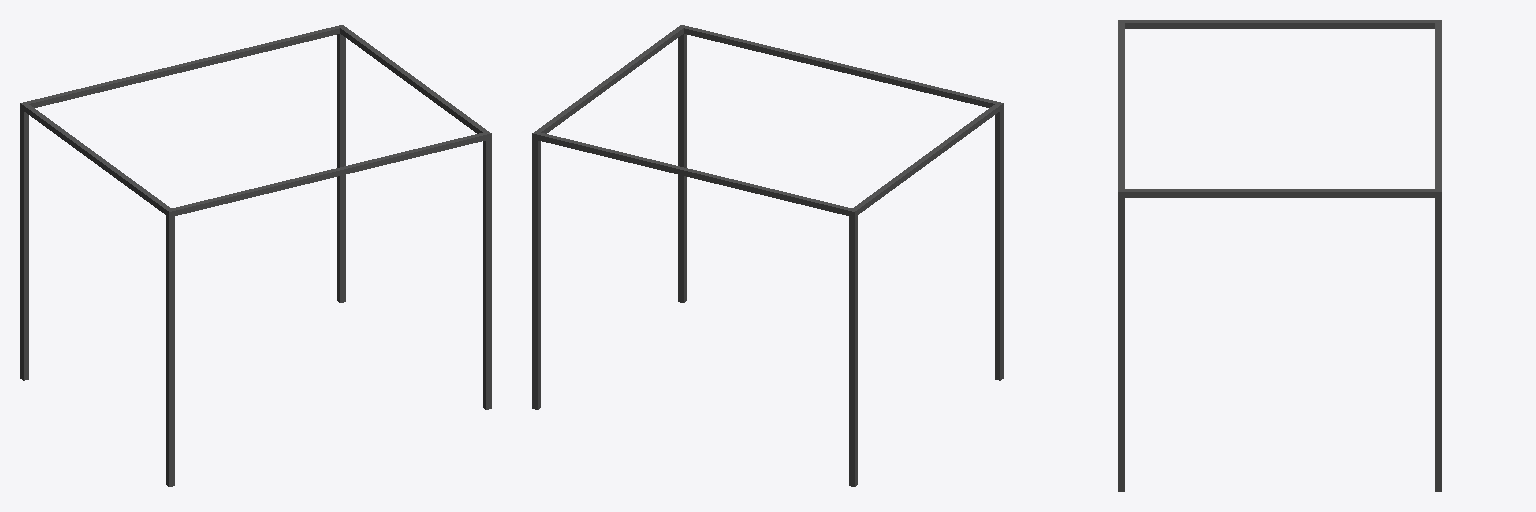
The robot description file, URDF, robot "camera_frame":
<?xml version="1.0"?>
<robot name="camera_frame">
  <link name="vertical_support_1">
  <contact>
      <lateral_friction value="1"/>
  </contact>
    <inertial>
      <origin rpy="0 0 0" xyz="0 0 0"/>
       <mass value=".0"/>
       <inertia ixx="0" ixy="0" ixz="0" iyy="0" iyz="0" izz="0"/>
    </inertial>
    <visual>
      <origin xyz="0 0 0.6096" rpy="0 0 0" />
      <geometry>
        <box size="0.0254 0.0254 1.2192" />
      </geometry>
      <material name="desert sand">
        <color rgba="0.375 0.375 0.375 1" />
      </material>
    </visual>
    <collision>
      <origin xyz="0 0 0.6096" rpy="0 0 0" />
      <geometry>
        <box size="0.0254 0.0254 1.2192" />
      </geometry>
    </collision>
  </link>
  <link name="vertical_support_2">
  <contact>
      <lateral_friction value="1"/>
  </contact>
    <inertial>
      <origin rpy="0 0 0" xyz="0 0 0"/>
       <mass value=".0"/>
       <inertia ixx="0" ixy="0" ixz="0" iyy="0" iyz="0" izz="0"/>
    </inertial>
    <visual>
      <origin xyz="0 0 0.6096" rpy="0 0 0" />
      <geometry>
        <box size="0.0254 0.0254 1.2192" />
      </geometry>
      <material name="desert sand" />
    </visual>
    <collision>
      <origin xyz="0 0 0.6096" rpy="0 0 0" />
      <geometry>
        <box size="0.0254 0.0254 1.2192" />
      </geometry>
    </collision>
  </link>
  <link name="vertical_support_3">
  <contact>
      <lateral_friction value="1"/>
  </contact>
    <inertial>
      <origin rpy="0 0 0" xyz="0 0 0"/>
       <mass value=".0"/>
       <inertia ixx="0" ixy="0" ixz="0" iyy="0" iyz="0" izz="0"/>
    </inertial>
    <visual>
      <origin xyz="0 0 0.6096" rpy="0 0 0" />
      <geometry>
        <box size="0.0254 0.0254 1.2192" />
      </geometry>
      <material name="desert sand"/>
    </visual>
    <collision>
      <origin xyz="0 0 0.6096" rpy="0 0 0" />
      <geometry>
        <box size="0.0254 0.0254 1.2192" />
      </geometry>
    </collision>
  </link>
  <link name="vertical_support_4">
  <contact>
      <lateral_friction value="1"/>
  </contact>
    <inertial>
      <origin rpy="0 0 0" xyz="0 0 0"/>
       <mass value=".0"/>
       <inertia ixx="0" ixy="0" ixz="0" iyy="0" iyz="0" izz="0"/>
    </inertial>
    <visual>
      <origin xyz="0 0 0.6096" rpy="0 0 0" />
      <geometry>
        <box size="0.0254 0.0254 1.2192" />
      </geometry>
      <material name="desert sand"/>
    </visual>
    <collision>
      <origin xyz="0 0 0.6096" rpy="0 0 0" />
      <geometry>
        <box size="0.0254 0.0254 1.2192" />
      </geometry>
    </collision>
  </link>

  <link name="horizontal_support_1_short">
  <contact>
      <lateral_friction value="1"/>
  </contact>
    <inertial>
      <origin rpy="0 0 0" xyz="0 0 0"/>
       <mass value=".0"/>
       <inertia ixx="0" ixy="0" ixz="0" iyy="0" iyz="0" izz="0"/>
    </inertial>
    <visual>
      <origin xyz="0 0 0.0127" rpy="0 0 0" />
      <geometry>
        <box size= "0.0254 1.2192 0.0254" />
      </geometry>
      <material name="desert sand"/>
    </visual>
    <collision>
      <origin xyz="0 0 0.0127" rpy="0 0 0" />
      <geometry>
        <box size="0.0254 1.2192 0.0254" />
      </geometry>
    </collision>
  </link>

  <link name="horizontal_support_2_short">
  <contact>
      <lateral_friction value="1"/>
  </contact>
    <inertial>
      <origin rpy="0 0 0" xyz="0 0 0"/>
       <mass value=".0"/>
       <inertia ixx="0" ixy="0" ixz="0" iyy="0" iyz="0" izz="0"/>
    </inertial>
    <visual>
      <origin xyz="0 0 0.0127" rpy="0 0 0" />
      <geometry>
        <box size= "0.0254 1.2192 0.0254" />
      </geometry>
      <material name="desert sand"/>
    </visual>
    <collision>
      <origin xyz="0 0 0.0127" rpy="0 0 0" />
      <geometry>
        <box size="0.0254 1.2192 0.0254" />
      </geometry>
    </collision>
  </link>

  <link name="horizontal_support_3_long">
  <contact>
      <lateral_friction value="1"/>
  </contact>
    <inertial>
      <origin rpy="0 0 0" xyz="0 0 0"/>
       <mass value=".0"/>
       <inertia ixx="0" ixy="0" ixz="0" iyy="0" iyz="0" izz="0"/>
    </inertial>
    <visual>
      <origin xyz="0 0 0.0127" rpy="0 0 0" />
      <geometry>
        <box size= "1.4732 0.0254 0.0254" />
      </geometry>
      <material name="desert sand" />
    </visual>
    <collision>
      <origin xyz="0 0 0.0127" rpy="0 0 0" />
      <geometry>
        <box size="1.4732 0.0254 0.0254" />
      </geometry>
    </collision>
  </link>

  <link name="horizontal_support_4_long">
  <contact>
      <lateral_friction value="1"/>
  </contact>
    <inertial>
      <origin rpy="0 0 0" xyz="0 0 0"/>
       <mass value=".0"/>
       <inertia ixx="0" ixy="0" ixz="0" iyy="0" iyz="0" izz="0"/>
    </inertial>
    <visual>
      <origin xyz="0 0 0.0127" rpy="0 0 0" />
      <geometry>
        <box size= "1.4732 0.0254 0.0254" />
      </geometry>
      <material name="desert sand" />
    </visual>
    <collision>
      <origin xyz="0 0 0.0127" rpy="0 0 0" />
      <geometry>
        <box size="1.4732 0.0254 0.0254" />
      </geometry>
    </collision>
  </link>
  <!-- Everything is in reference to the first vertical support. It is infront and left of the robot (from the robot perspective). -->
  <joint name="vertical_2_vertical_1" type="fixed">
    <origin xyz="-1.4986 0.0 0.0" rpy="0 0 0" /> <!-- Length of base - length of support = 1.524/2 - 0.0254/2  -->
    <parent link="vertical_support_1" />
    <child link="vertical_support_2" />
  </joint>

  <joint name="vertical_3_vertical_1" type="fixed">
    <origin xyz="0.0 -1.1938 0.0" rpy="0 0 0" /> <!-- Length of base/2 - length of support/2 = 1.524/2 - 0.0254/2  -->
    <parent link="vertical_support_1" />
    <child link="vertical_support_3" />
  </joint>

  <joint name="vertical_4_vertical_1" type="fixed">
    <origin xyz="-1.4986 -1.1938 0.0" rpy="0 0 0" /> <!-- Length of base/2 - length of support/2 = 1.524/2 - 0.0254/2  -->
    <parent link="vertical_support_1" />
    <child link="vertical_support_4" />
  </joint>

  <joint name="horizontal_1_vertical_1" type="fixed">
    <origin xyz="0.0 -0.5969 1.2192" rpy="0 0 0" /> <!-- Length of base/2 - length of support/2 = 1.524/2 - 0.0254/2  -->
    <parent link="vertical_support_1" />
    <child link="horizontal_support_1_short" />
  </joint>

  <joint name="horizontal_2_vertical_1" type="fixed">
    <origin xyz="-1.4986 -0.5969 1.2192" rpy="0 0 0" /> <!-- Length of base/2 - length of support/2 = 1.524/2 - 0.0254/2  -->
    <parent link="vertical_support_1" />
    <child link="horizontal_support_2_short" />
  </joint>

  <joint name="horizontal_3_vertical_1" type="fixed">
    <origin xyz="-0.7493 0.0 1.2192" rpy="0 0 0" /> <!-- Length of base/2 - length of support/2 = 1.524/2 - 0.0254/2  -->
    <parent link="vertical_support_1" />
    <child link="horizontal_support_3_long" />
  </joint>

  <joint name="horizontal_4_vertical_1" type="fixed">
    <origin xyz="-0.7493 -1.1938 1.2192" rpy="0 0 0" /> <!-- Length of base/2 - length of support/2 = 1.524/2 - 0.0254/2  -->
    <parent link="vertical_support_1" />
    <child link="horizontal_support_4_long" />
  </joint>
</robot>

--- What the picture shows (computed from the rendered views, not written in the file) ---
Views: 3 orthographic renders of the robot side by side, from view 1: azimuth 30°, elevation 25°; view 2: azimuth 150°, elevation 25°; view 3: azimuth 270°, elevation 25°.
Robot: camera_frame — 8 links, 7 joints (7 fixed); root link vertical_support_1; default pose: all joints at 0.
Links seen in each view (by area): view 1: horizontal_support_4_long, horizontal_support_3_long, vertical_support_4, vertical_support_3, vertical_support_2, vertical_support_1, horizontal_support_2_short, horizontal_support_1_short; view 2: horizontal_support_3_long, horizontal_support_4_long, vertical_support_2, vertical_support_1, vertical_support_4, vertical_support_3, horizontal_support_2_short, horizontal_support_1_short; view 3: horizontal_support_1_short, horizontal_support_2_short, vertical_support_1, vertical_support_3, horizontal_support_3_long, horizontal_support_4_long.
Boxes of the visible links, x1,y1,x2,y2 form: horizontal_support_4_long: [172, 133, 485, 215]; horizontal_support_3_long: [27, 26, 339, 107]; vertical_support_4: [166, 216, 174, 486]; vertical_support_3: [483, 139, 491, 409]; vertical_support_2: [20, 109, 28, 380]; vertical_support_1: [337, 34, 345, 302]; horizontal_support_2_short: [20, 102, 174, 217]; horizontal_support_1_short: [338, 25, 491, 139]; horizontal_support_3_long: [538, 133, 851, 215]; horizontal_support_4_long: [684, 26, 996, 107]; vertical_support_2: [849, 216, 857, 486]; vertical_support_1: [532, 139, 540, 409]; vertical_support_4: [995, 109, 1003, 380]; vertical_support_3: [678, 34, 686, 302]; horizontal_support_2_short: [849, 102, 1003, 217]; horizontal_support_1_short: [532, 25, 685, 139]; horizontal_support_1_short: [1118, 189, 1441, 197]; horizontal_support_2_short: [1118, 20, 1441, 28]; vertical_support_1: [1435, 198, 1441, 491]; vertical_support_3: [1118, 198, 1124, 491]; horizontal_support_3_long: [1435, 23, 1441, 188]; horizontal_support_4_long: [1118, 23, 1124, 188].
Size in the robot's own frame: 1.52 by 1.22 by 1.24 metres.
Geometry: primitives only (box / cylinder / sphere), no mesh files.